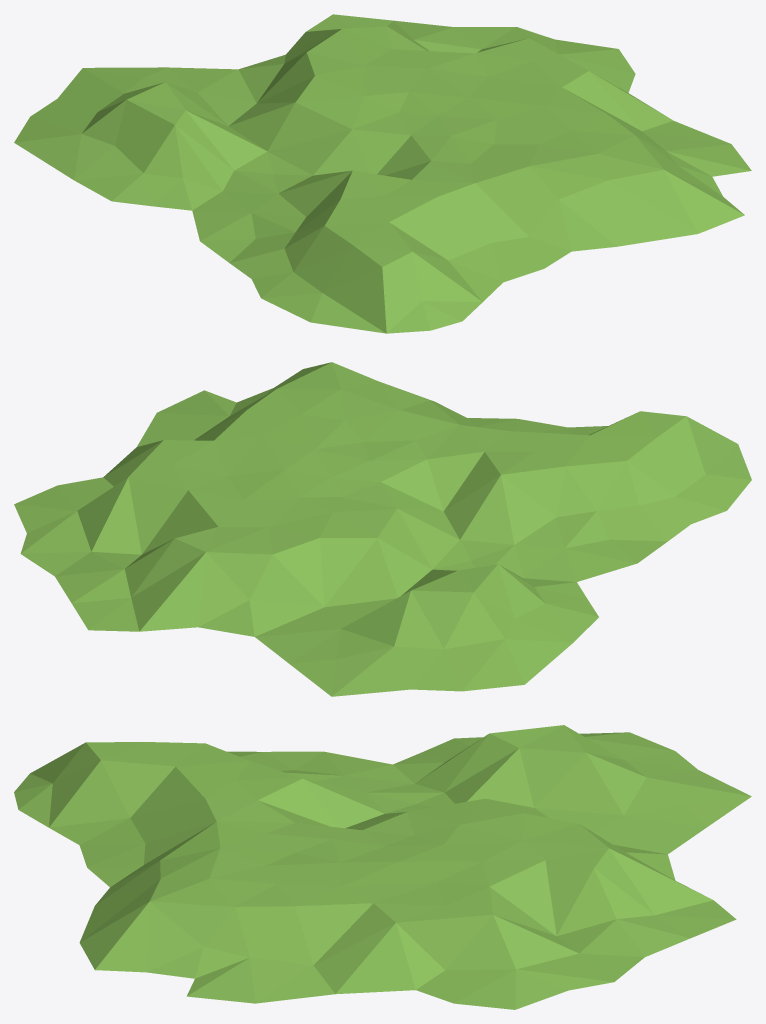
Rendered from MT_Mountain_M_b_01.fbx.
3 renders of one model, top to bottom at view 1: azimuth 30°, elevation 25°; view 2: azimuth 150°, elevation 25°; view 3: azimuth 270°, elevation 25°, orthographic. The views are drawn at different scales.
Parts seen in each view (by area): view 1: MT_Mountain_M_b_01; view 2: MT_Mountain_M_b_01; view 3: MT_Mountain_M_b_01.
Boxes of the visible parts, box(x1,y1,x2,y2) form: MT_Mountain_M_b_01: box(14, 14, 751, 333); MT_Mountain_M_b_01: box(14, 362, 751, 696); MT_Mountain_M_b_01: box(14, 725, 751, 1009).
Size of the model in its own units: 3436 by 280 by 3858.
